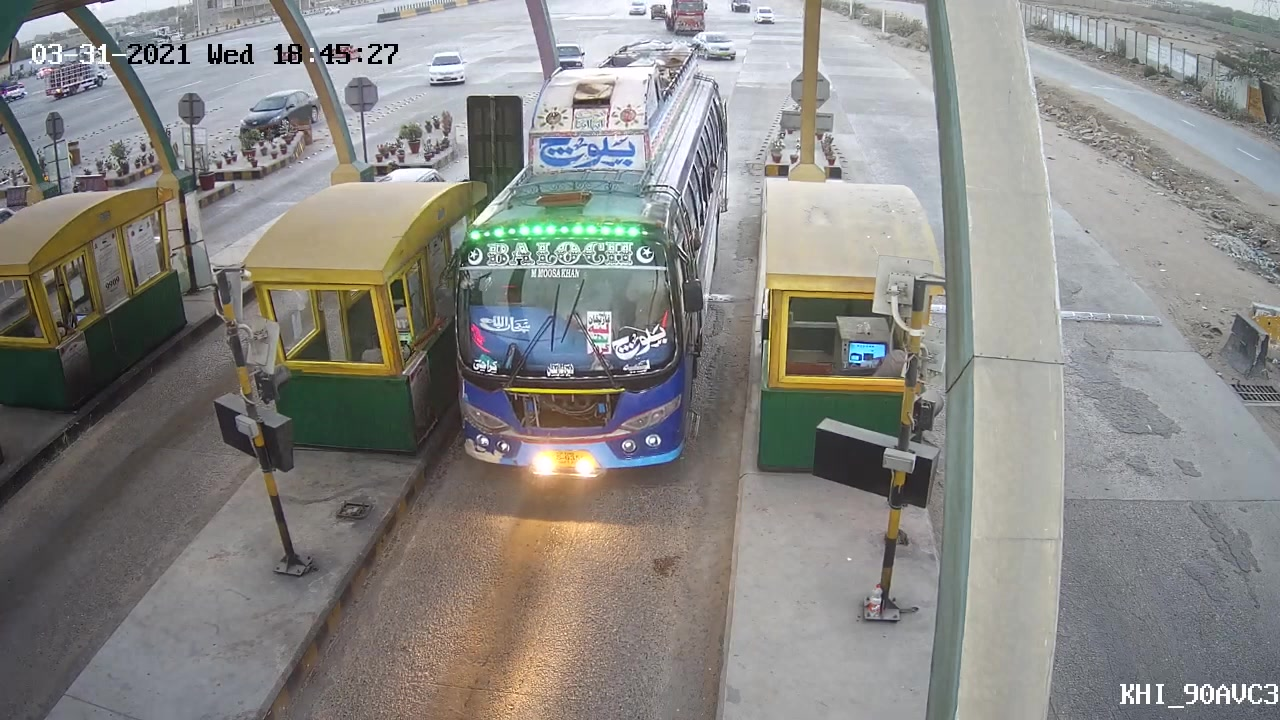F3: (438, 104, 709, 489)
